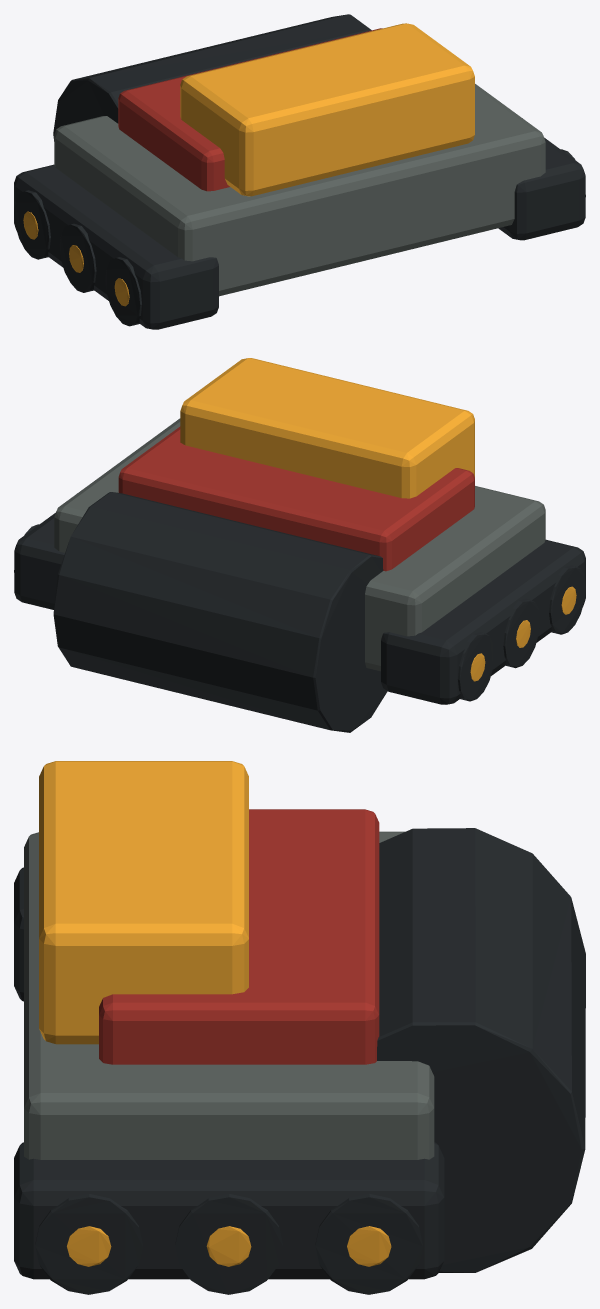
File: SM_Soviet_SU_BogatyrOreCarrier_LOD1.fbx
3 renders of one model, top to bottom at view 1: azimuth 30°, elevation 25°; view 2: azimuth 150°, elevation 25°; view 3: azimuth 270°, elevation 25°, orthographic. The views are drawn at different scales.
Parts seen in each view (by area): view 1: LOD01_SM_Soviet_SU_BogatyrOreCarrier; view 2: LOD01_SM_Soviet_SU_BogatyrOreCarrier; view 3: LOD01_SM_Soviet_SU_BogatyrOreCarrier.
Part boxes in pixels (box(x1,y1,x2,y2)): LOD01_SM_Soviet_SU_BogatyrOreCarrier: box(14, 14, 585, 329); LOD01_SM_Soviet_SU_BogatyrOreCarrier: box(14, 358, 585, 732); LOD01_SM_Soviet_SU_BogatyrOreCarrier: box(14, 761, 585, 1294).
Bounding box in the file's own units: 572 × 412 × 265.
